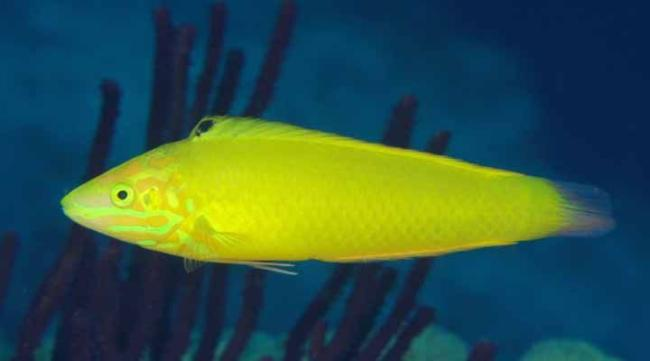fish: (58, 113, 618, 277)
